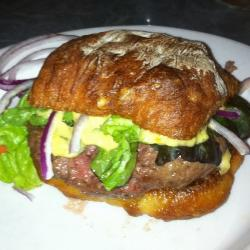burger: (16, 27, 248, 217)
